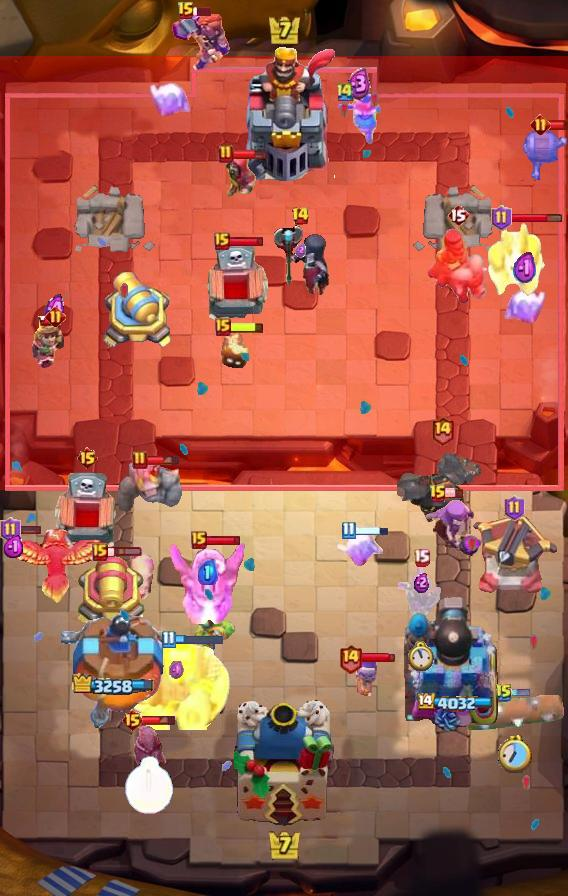archer-evolution: (398, 563, 444, 623)
bar: (173, 634, 225, 646), (510, 213, 563, 224), (229, 321, 265, 334), (232, 148, 268, 161), (106, 546, 143, 558), (360, 652, 396, 664), (142, 714, 177, 726), (146, 454, 181, 466), (205, 535, 242, 546), (228, 236, 265, 247), (354, 525, 389, 536), (7, 524, 42, 535), (548, 118, 568, 131), (193, 6, 213, 17), (445, 488, 464, 499), (511, 688, 531, 698)
bar-level: (338, 643, 363, 674), (430, 415, 455, 446), (121, 708, 144, 732), (76, 446, 99, 470), (0, 517, 21, 543), (504, 495, 525, 521), (491, 205, 512, 231), (447, 203, 469, 227), (45, 306, 66, 327), (530, 114, 551, 135), (335, 81, 355, 102), (291, 206, 310, 226), (495, 683, 513, 703), (429, 484, 447, 504), (177, 1, 195, 21), (413, 548, 430, 567), (132, 450, 148, 470), (218, 144, 234, 164), (92, 543, 108, 561), (191, 531, 207, 549), (215, 318, 231, 336), (214, 232, 230, 250), (161, 630, 176, 649), (341, 521, 356, 540)
cannoneer-tower: (404, 593, 502, 731)
clock: (124, 756, 174, 815), (498, 735, 532, 773), (408, 641, 434, 672)
elixir: (513, 251, 537, 287), (347, 68, 371, 101), (44, 294, 67, 324), (3, 535, 25, 559), (198, 559, 218, 585), (169, 660, 185, 680), (414, 572, 429, 593), (295, 243, 306, 257)
fire-spirit: (221, 332, 251, 370)
golemite: (117, 459, 183, 519)
hog: (123, 548, 157, 604)
ice-spirit-evolution: (502, 286, 548, 328), (147, 79, 193, 121), (333, 530, 383, 568)
king-tower: (230, 45, 338, 181), (234, 700, 334, 826)
little-prince: (30, 316, 81, 372)
mega-minion: (485, 223, 545, 301)
mini-pekka: (123, 721, 175, 773)
mother-witch: (420, 498, 484, 560)
night-witch: (270, 223, 330, 299)
queen-tower: (61, 603, 167, 731)
ram-rider: (426, 227, 490, 307)
skeleton-evolution: (349, 658, 381, 700)
spear-goblin: (187, 609, 235, 653)
the-log: (465, 695, 565, 731)
tower-bar: (72, 673, 156, 698), (415, 693, 492, 713)
valkyrie: (335, 92, 383, 146)
valkyrie-evolution: (170, 9, 232, 73)
wall-breaker: (520, 127, 568, 181)
wizard: (221, 152, 257, 200)
